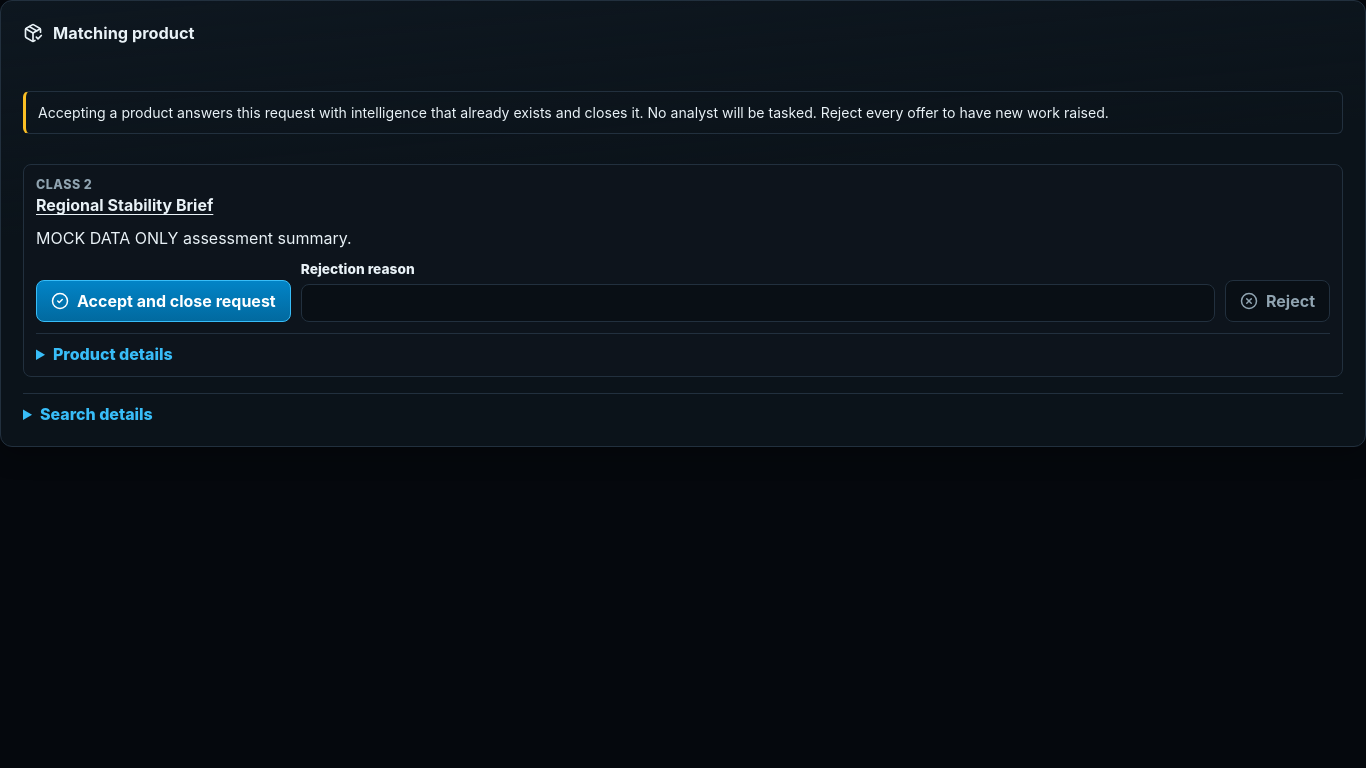
Test case: accepts and rejects RFI product offers
Expected: the heading "Matching product" is shown, [53,23,194,43]
Expected: the text "MOCK DATA ONLY assessment summary." is shown, [36,228,352,248]
Click the button "Accept and close request". click: click(163, 301)
box: [36,280,291,322]
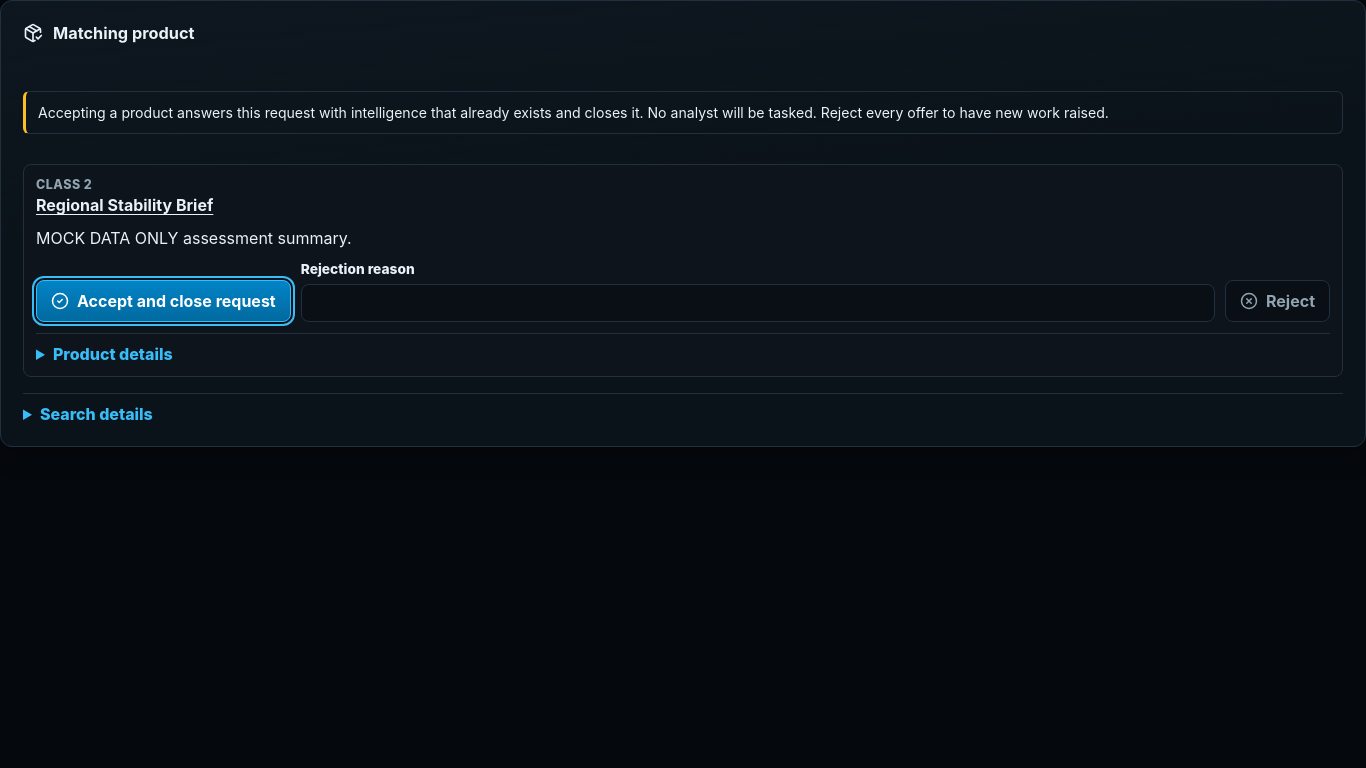
Type "Too old." into the field labelled "Rejection reason". click: (758, 303)
box: [301,284,1215,322]
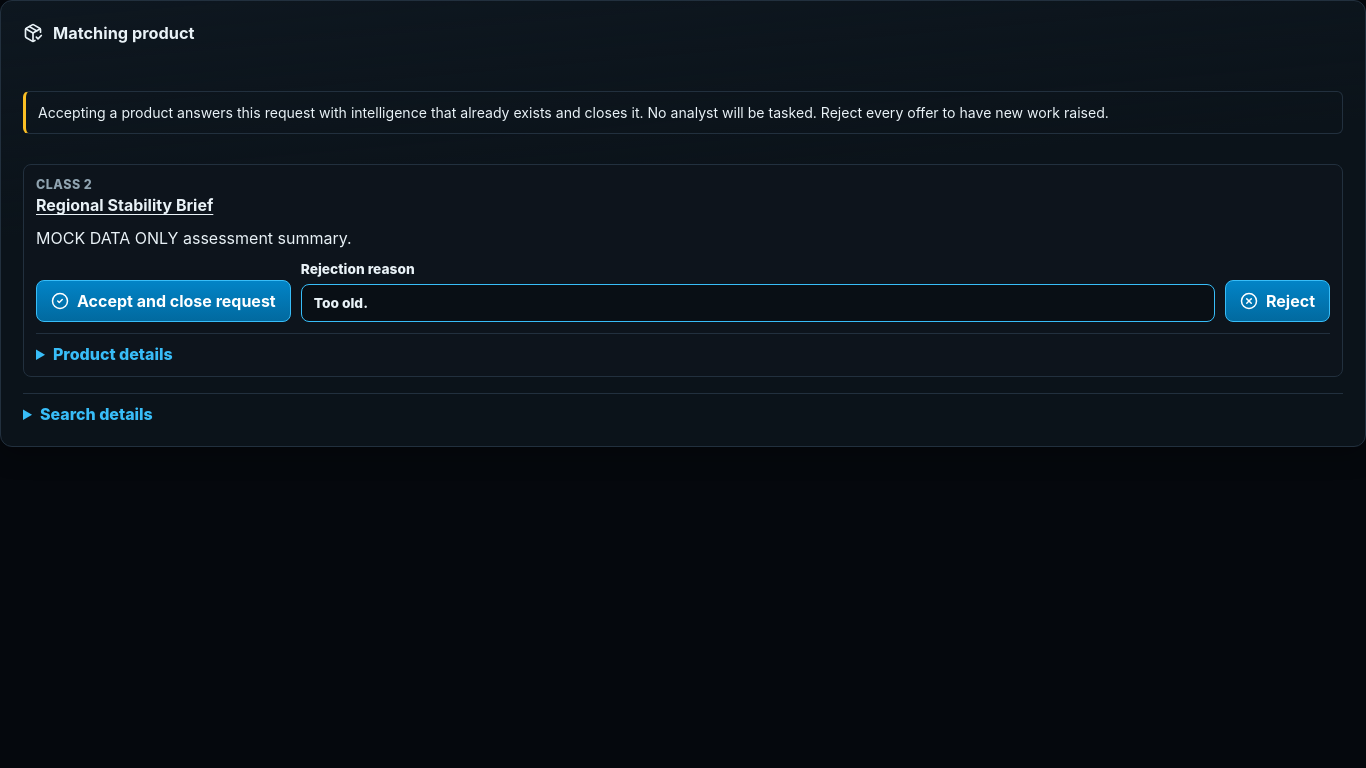
Click the button "Reject". click: click(1278, 301)
box: [1225,280,1330,322]
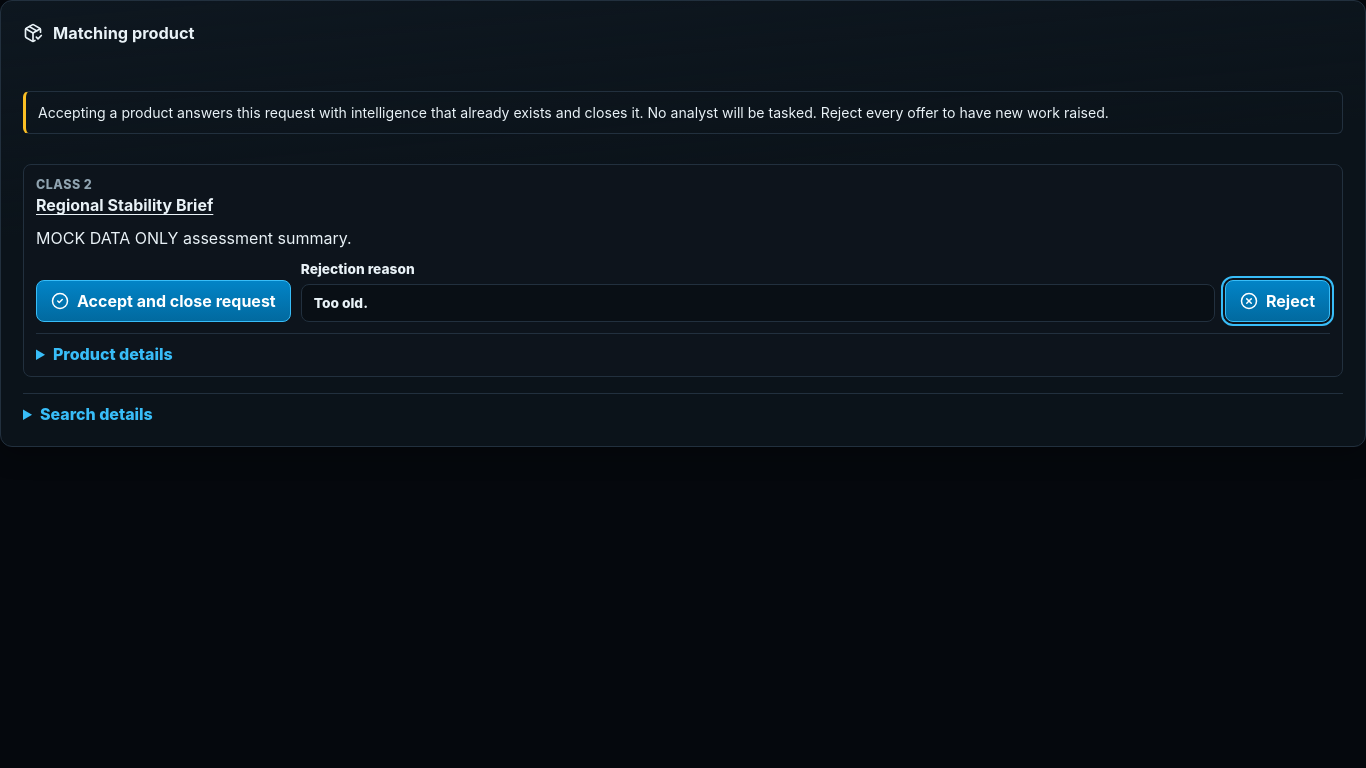
Click the heading "Product details". click: click(113, 354)
box: [53,344,173,364]
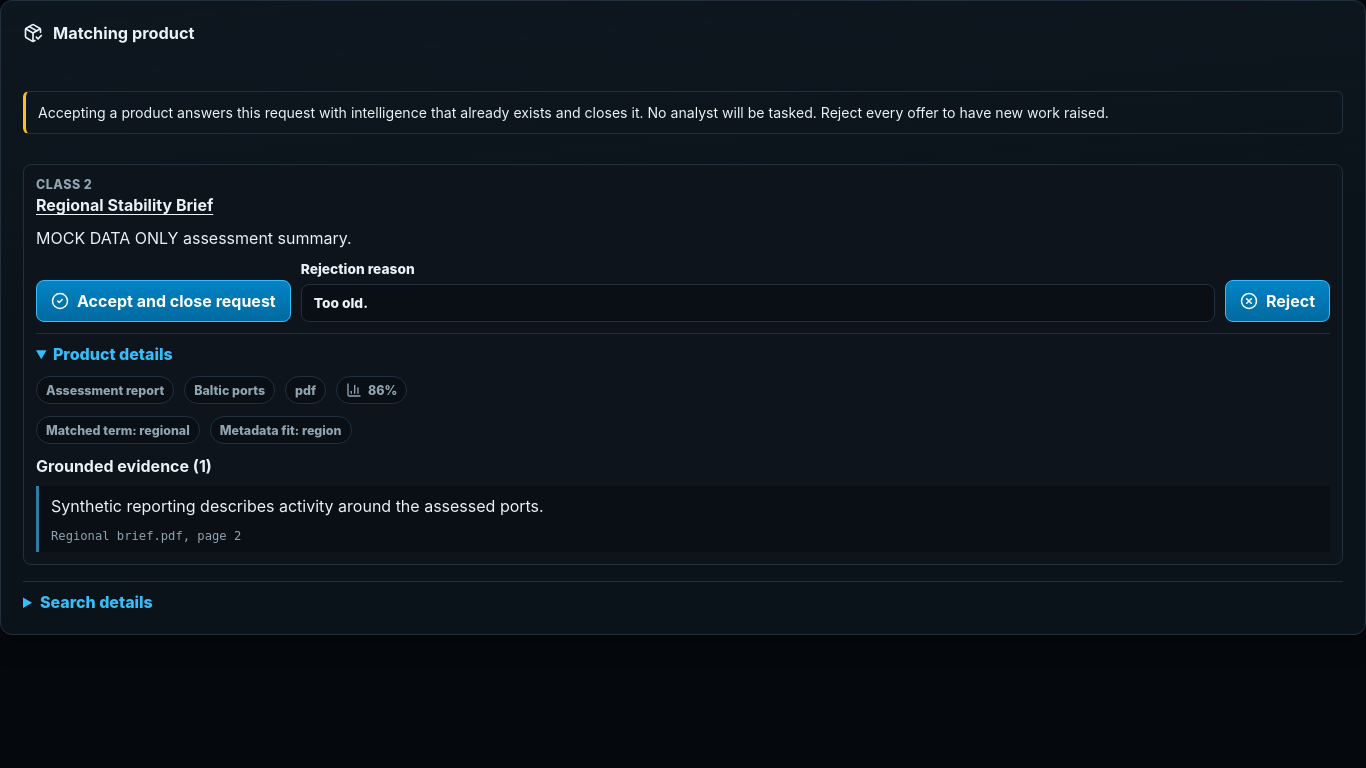
Now the text "86%" is shown, box [336,376,407,404]
Now the heading "Grounded evidence (1)" is shown, box [36,456,212,476]
Now the text "Regional brief.pdf, page 2" is shown, box [51,529,241,543]
Click the heading "Search details". click: click(96, 602)
box: [40,592,153,612]
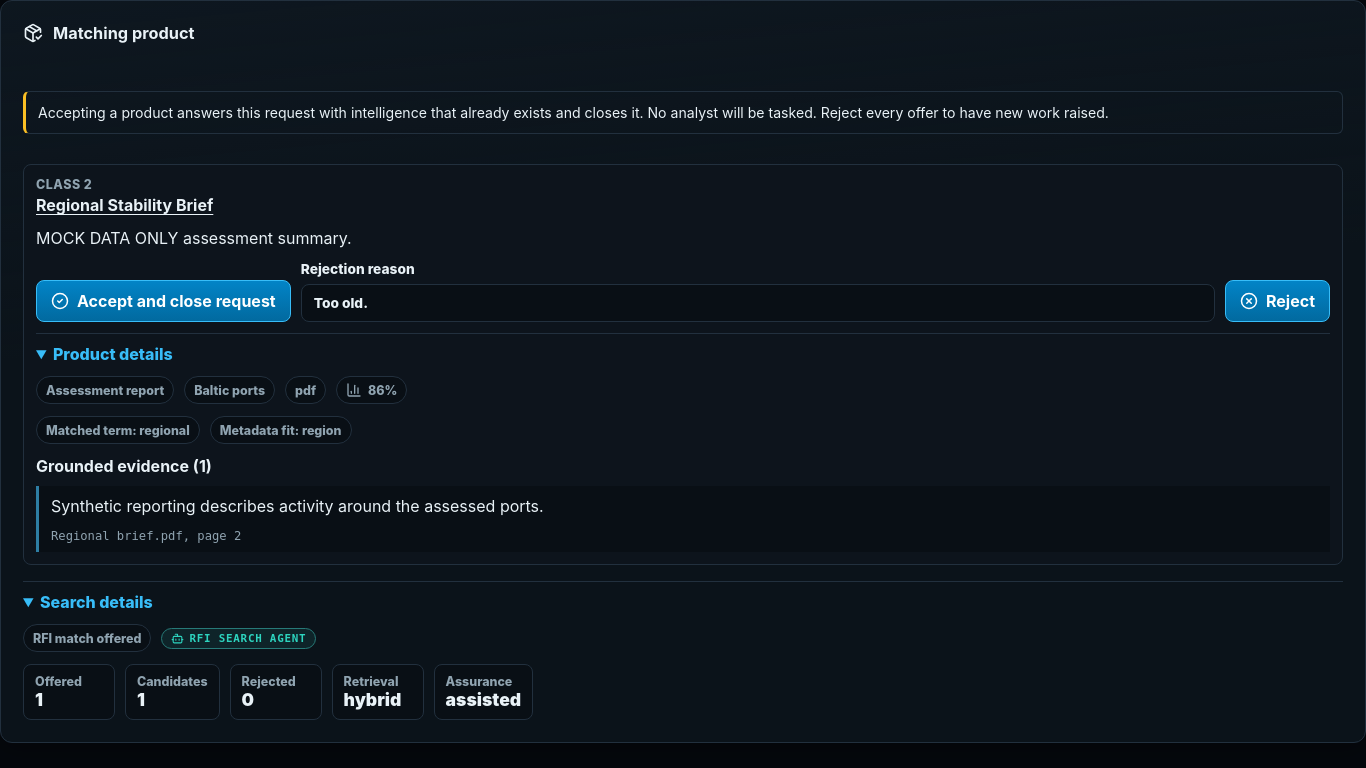
Now the element named "RFI search metrics" is shown, box [23,664,533,720]
